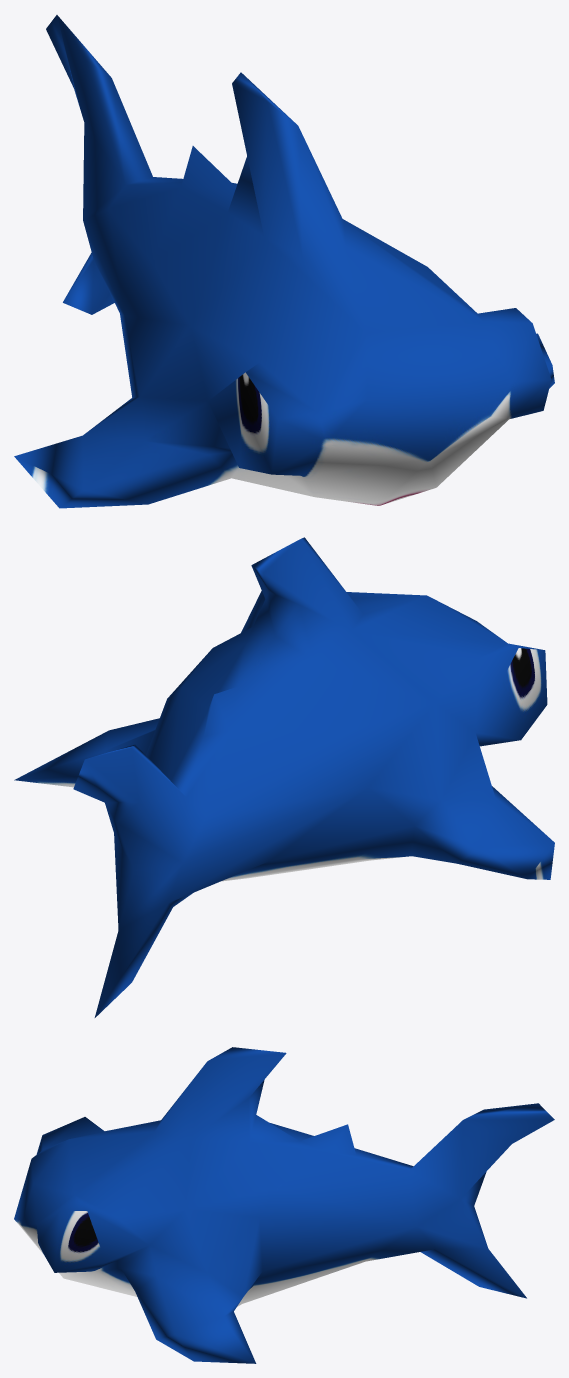
Rendered from squalo_LOD1.fbx.
The picture shows the model from 3 angles, top to bottom: view 1: azimuth 30°, elevation 25°; view 2: azimuth 150°, elevation 25°; view 3: azimuth 270°, elevation 25°; orthographic projection. The views are drawn at different scales.
Parts seen in each view (by area): view 1: Group57338; view 2: Group57338; view 3: Group57338.
Boxes of the visible parts, bbox=[...] form: Group57338: bbox=[14, 15, 554, 508]; Group57338: bbox=[14, 537, 554, 1017]; Group57338: bbox=[14, 1047, 554, 1363].
Bounding box in the file's own units: 1062 × 678 × 1334.
Materials: 1 (1 with a texture image).
